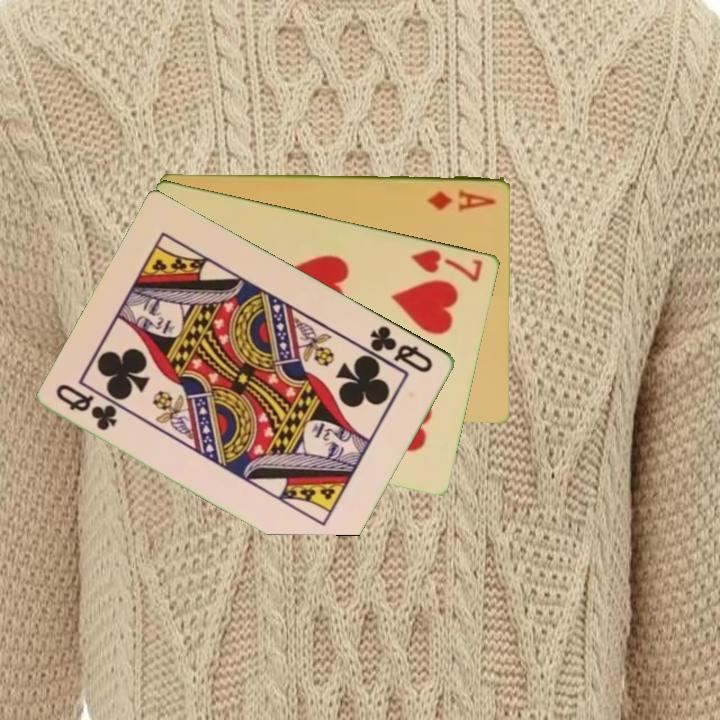7h: (406, 245, 486, 285)
Ad: (425, 185, 499, 213)
Qc: (366, 321, 437, 376), (52, 380, 121, 433)
